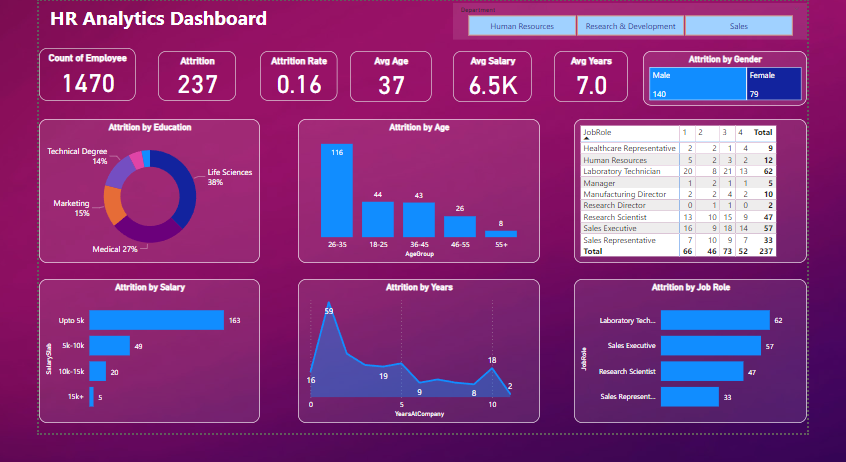

Layout of this report page (visuals, bound fields, positions):
{"tool":"powerbi","page":{"name":"Page 1","canvas":[1280,720],"ordinal":0},"visuals":[{"type":"card","title":"Count of Employee","fields":{"Values":["CountNonNull(HR_Analytics.EmpID)"]},"box":[0,78.9,160.6,87.6],"z":0},{"type":"card","title":"Attrition","fields":{"Values":["Sum(HR_Analytics.AttritionCount)"]},"box":[198.6,83.2,130,83.2],"z":1000},{"type":"card","title":"Attrition Rate","fields":{"Values":["HR_Analytics.AttritionRate"]},"box":[368,83.2,128.5,83.2],"z":2000},{"type":"card","title":"Avg Age","fields":{"Values":["Avg(HR_Analytics.Age)"]},"box":[518.5,83.2,135.8,84.7],"z":3000},{"type":"card","title":"Avg Salary","fields":{"Values":["Avg(HR_Analytics.MonthlyIncome)"]},"box":[689.3,83.2,131.4,84.7],"z":4000},{"type":"card","title":"Avg Years","fields":{"Values":["Avg(HR_Analytics.YearsAtCompany)"]},"box":[858.7,83.2,122.7,84.7],"z":5000},{"type":"donutChart","title":"Attrition by Education","fields":{"Category":["HR_Analytics.EducationField"],"Y":["Sum(HR_Analytics.AttritionCount)"]},"box":[0,197.2,368,239.5],"z":6000},{"type":"columnChart","title":"Attrition by Age","fields":{"Category":["HR_Analytics.AgeGroup"],"Y":["Sum(HR_Analytics.AttritionCount)"]},"box":[432.3,197.2,403.1,239.5],"z":7000},{"type":"pivotTable","fields":{"Rows":["HR_Analytics.JobRole"],"Columns":["HR_Analytics.JobSatisfaction"],"Values":["Sum(HR_Analytics.AttritionCount)"]},"box":[890.9,197.2,388.5,239.5],"z":8000},{"type":"barChart","title":"Attrition by Salary","fields":{"Category":["HR_Analytics.SalarySlab"],"Y":["Sum(HR_Analytics.AttritionCount)"]},"box":[0,463,368,239.5],"z":9000},{"type":"barChart","title":"Attrition by Job Role","fields":{"Y":["Sum(HR_Analytics.AttritionCount)"],"Category":["HR_Analytics.JobRole"]},"box":[890.9,463,388.5,239.5],"z":10000},{"type":"areaChart","title":"Attrition by Years","fields":{"Category":["HR_Analytics.YearsAtCompany"],"Y":["Sum(HR_Analytics.AttritionCount)"]},"box":[432.3,463,403.1,239.5],"z":11000},{"type":"treemap","title":"Attrition by Gender","fields":{"Group":["HR_Analytics.Gender"],"Values":["Sum(HR_Analytics.AttritionCount)"]},"box":[1006.2,83.2,273.1,90.5],"z":12000},{"type":"slicer","fields":{"Values":["HR_Analytics.Department"]},"box":[689.3,2.9,590,61.3],"z":12001},{"type":"textbox","box":[13.1,0,483.4,64.3],"z":12002}]}

Visuals, with their boxes in screenshot pixels (x1, y1, x2, y2):
"Count of Employee" card: crop(33, 44, 131, 97)
"Attrition" card: crop(154, 46, 234, 97)
"Attrition Rate" card: crop(258, 46, 337, 97)
"Avg Age" card: crop(350, 46, 433, 98)
"Avg Salary" card: crop(454, 46, 535, 98)
"Avg Years" card: crop(558, 46, 633, 98)
"Attrition by Education" donutChart: crop(33, 116, 258, 263)
"Attrition by Age" columnChart: crop(297, 116, 544, 263)
pivotTable - HR_Analytics.JobRole x HR_Analytics.JobSatisfaction: crop(578, 116, 815, 263)
"Attrition by Salary" barChart: crop(33, 279, 258, 425)
"Attrition by Job Role" barChart: crop(578, 279, 815, 425)
"Attrition by Years" areaChart: crop(297, 279, 544, 425)
"Attrition by Gender" treemap: crop(648, 46, 815, 102)
slicer - HR_Analytics.Department: crop(454, 0, 815, 35)
textbox: crop(41, 0, 337, 35)
